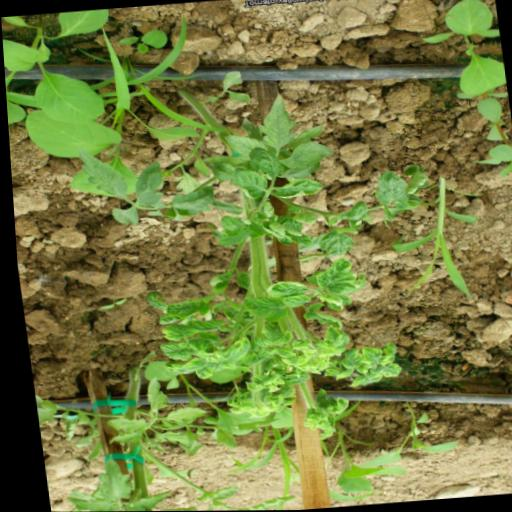Yellow Leaf Curl Virus: (223, 165, 267, 203), (207, 336, 249, 373), (308, 259, 356, 290), (239, 295, 285, 325), (155, 297, 209, 321), (271, 178, 324, 201), (299, 310, 339, 332), (261, 280, 305, 299), (311, 293, 349, 314), (156, 322, 192, 343), (154, 341, 187, 363), (245, 369, 281, 389), (183, 317, 223, 334), (341, 371, 379, 388), (354, 346, 378, 370), (335, 347, 359, 370), (373, 343, 395, 367), (278, 294, 309, 309), (266, 344, 292, 361), (374, 363, 399, 380), (175, 357, 203, 372), (319, 325, 339, 344), (325, 397, 345, 416), (190, 364, 209, 380), (329, 369, 351, 381), (301, 303, 323, 314)
